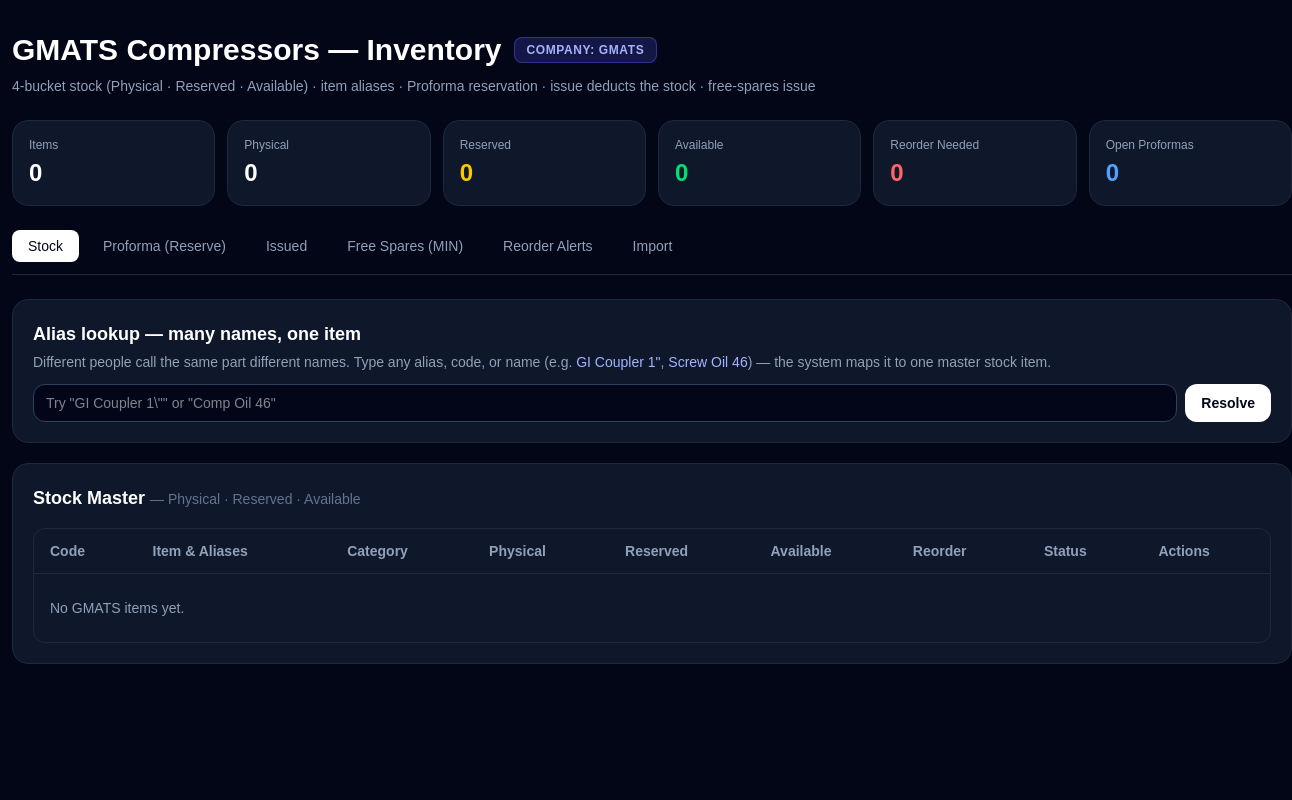
Scenario: the module no longer talks about tax invoices › has no tax-invoice tab, heading or copy
Expected: the button "Tax Invoice" is not shown
Expected: the button "Issued" is shown, [250,230,323,262]
Click the button "Proforma (Reserve)" at [164, 246], box [87,230,242,262]
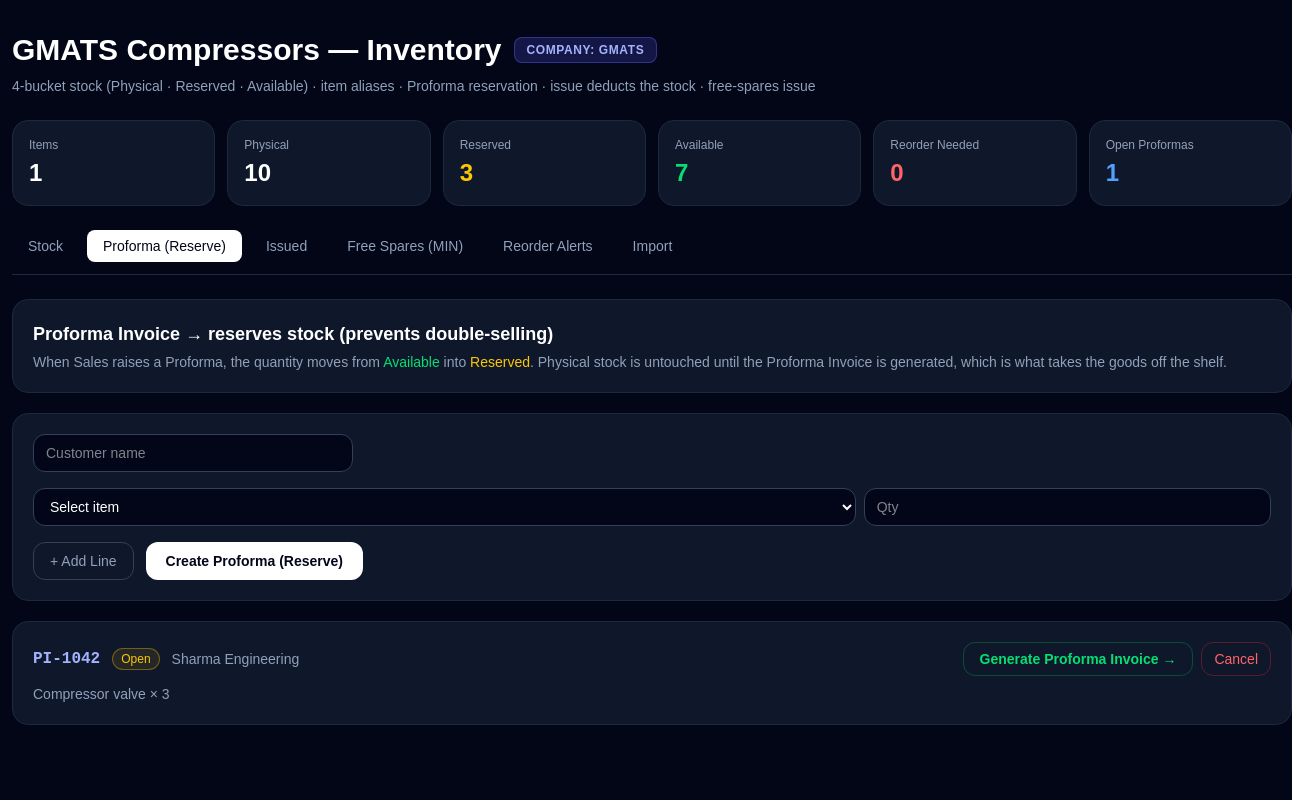
Expected: the button "Generate Proforma Invoice →" is shown, [963,642,1193,676]
Click the button "Issued" at [287, 246], box [250,230,323,262]
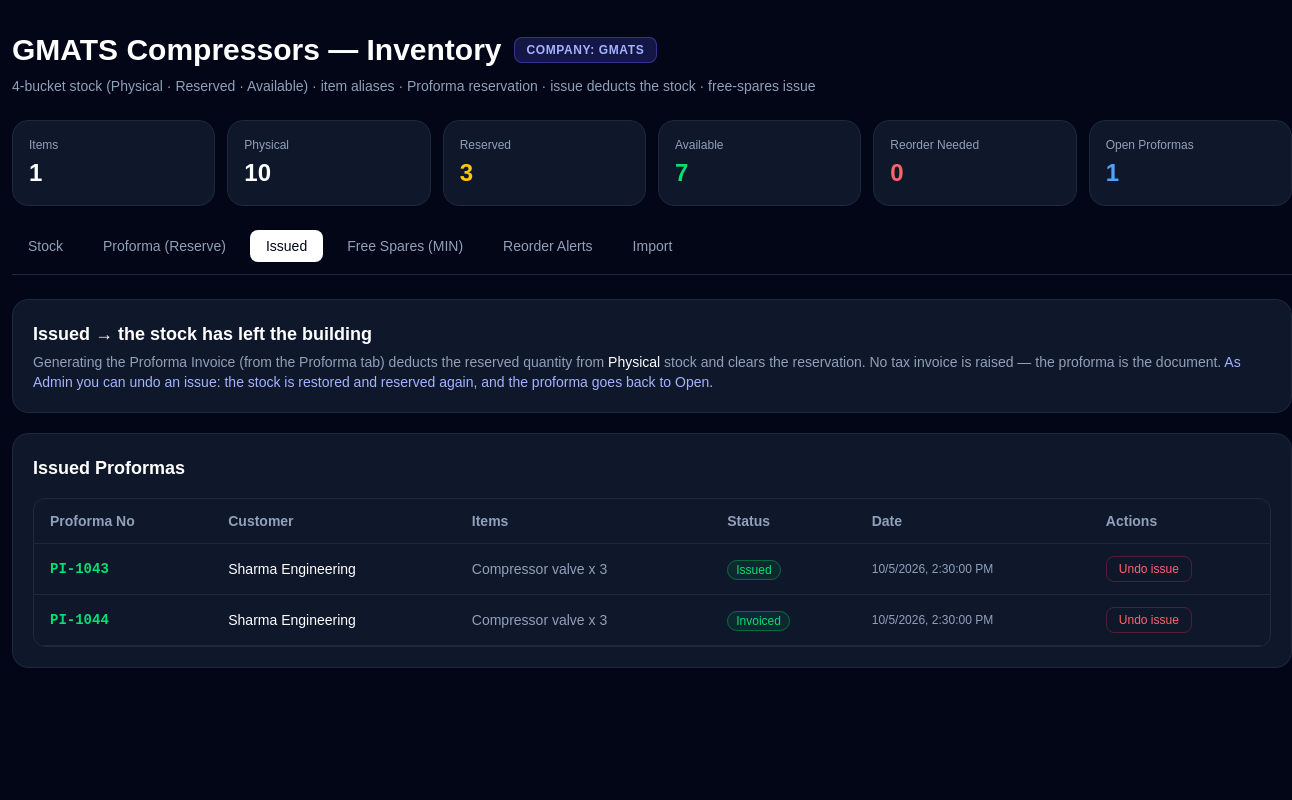
Expected: the heading "Issued Proformas" is shown, [33,458,185,478]
